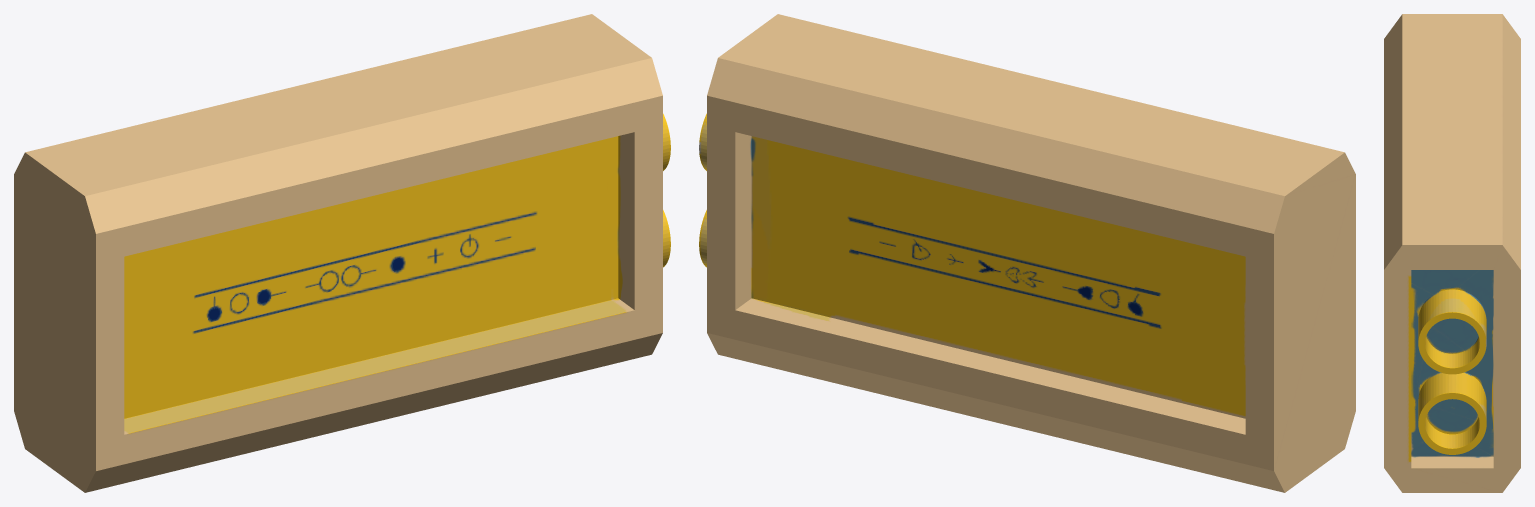
File: shenxrb.fbx
3 views of the same model, side by side, from view 1: azimuth 30°, elevation 25°; view 2: azimuth 150°, elevation 25°; view 3: azimuth 270°, elevation 25° (orthographic). The views are drawn at different scales.
Visible parts, largest first — view 1: node_id30; view 2: node_id30; view 3: node_id30.
Part boxes in pixels (x1,y1,x2,y2): node_id30: (14, 14, 670, 492); node_id30: (699, 14, 1355, 492); node_id30: (1384, 14, 1520, 492).
Size of the model in its own units: 0.512 by 0.2438 by 0.1219.
1 material, 1 textured.
